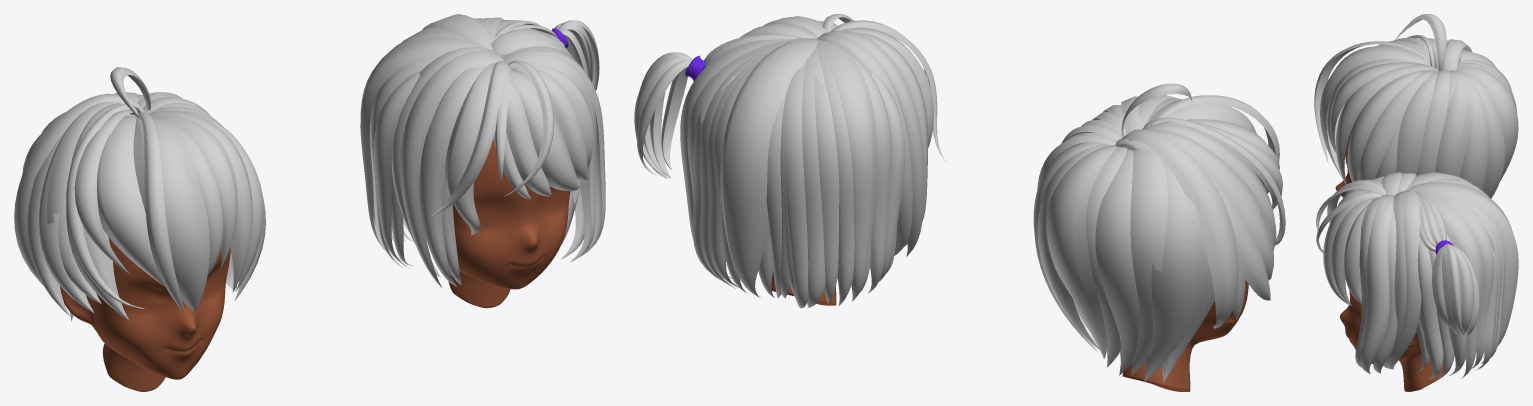
The picture shows the model from 3 angles, left to right: view 1: azimuth 30°, elevation 25°; view 2: azimuth 150°, elevation 25°; view 3: azimuth 270°, elevation 25°; orthographic projection. The views are drawn at different scales.
Visible parts, largest first — view 1: Hair-female_2, haiir-male_4, head-male_5, Head-female_3; view 2: Hair-female_2, haiir-male_4, head-male_5; view 3: Hair-female_2, haiir-male_4, Head-female_3, head-male_5.
Boxes of the visible parts, x1,y1,x2,y2 form: Hair-female_2: (360, 14, 605, 288); haiir-male_4: (14, 67, 265, 321); head-male_5: (60, 237, 230, 391); Head-female_3: (421, 129, 570, 308); Hair-female_2: (634, 14, 946, 308); haiir-male_4: (1033, 83, 1285, 382); head-male_5: (1122, 280, 1248, 391); Hair-female_2: (1316, 172, 1518, 379); haiir-male_4: (1314, 14, 1518, 198); Head-female_3: (1340, 290, 1450, 391); head-male_5: (1335, 97, 1371, 196).
Bounding box in the file's own units: 8.14 × 4.15 × 3.2.
